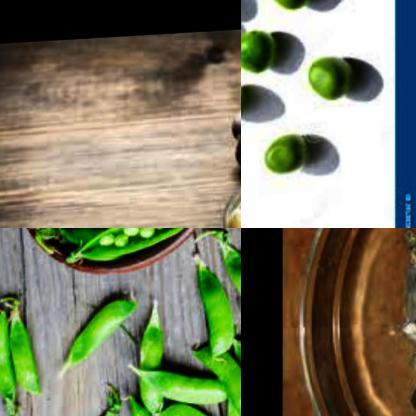peas: (137, 319, 240, 416), (7, 228, 209, 268), (178, 234, 240, 349), (50, 297, 130, 383), (0, 296, 42, 416), (303, 52, 355, 118), (262, 123, 307, 185), (241, 25, 282, 82), (62, 389, 132, 416), (241, 79, 259, 143), (269, 0, 321, 10)
